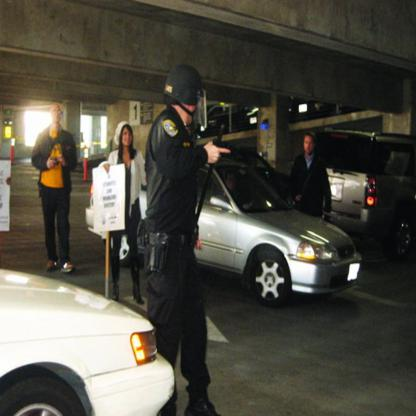face: (305, 137, 315, 154), (123, 131, 133, 147), (52, 107, 61, 123)
